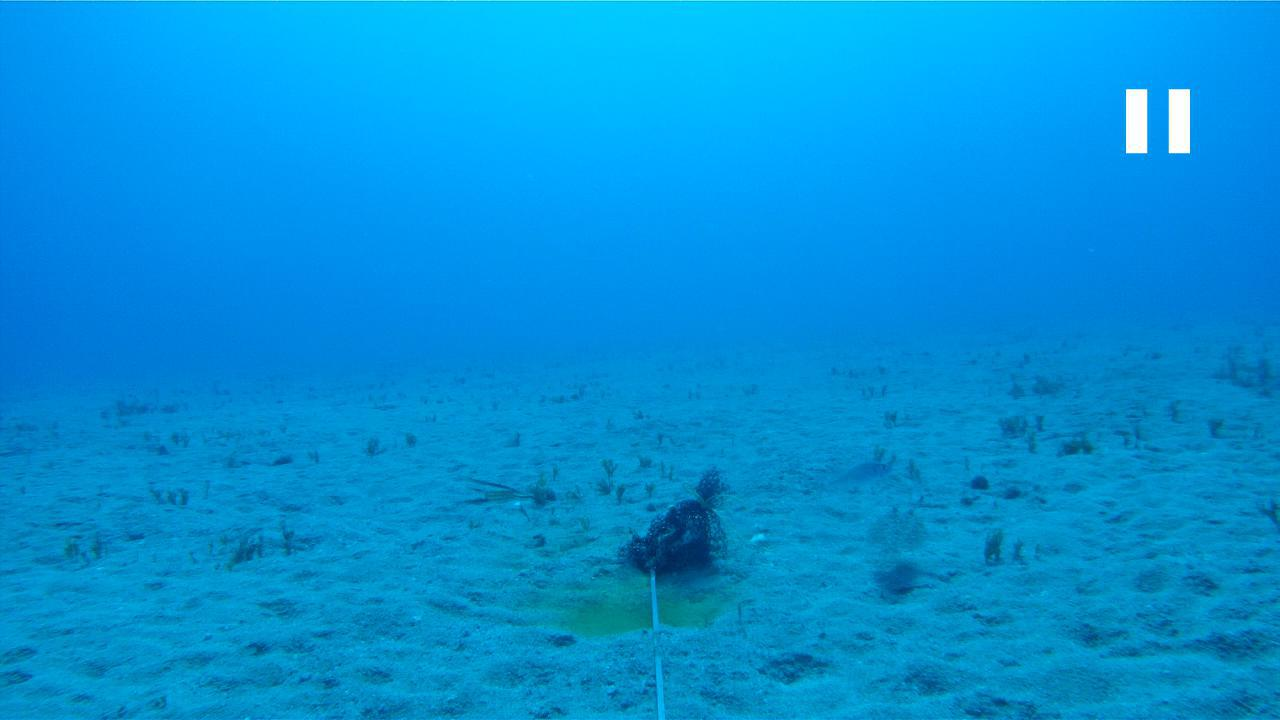bothus: (864, 502, 929, 572)
pagellus: (827, 458, 888, 489)
